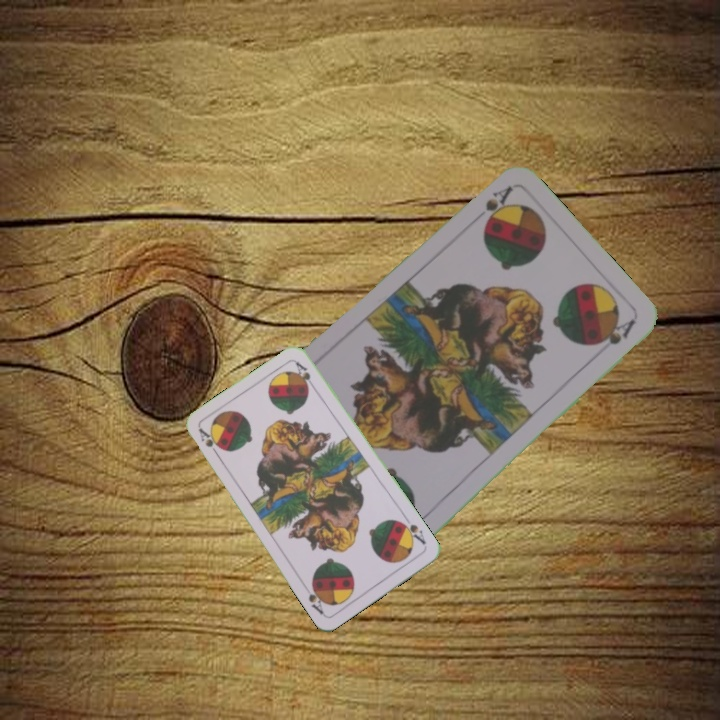SA: (479, 182, 516, 229), (396, 513, 428, 547), (194, 424, 223, 460)
